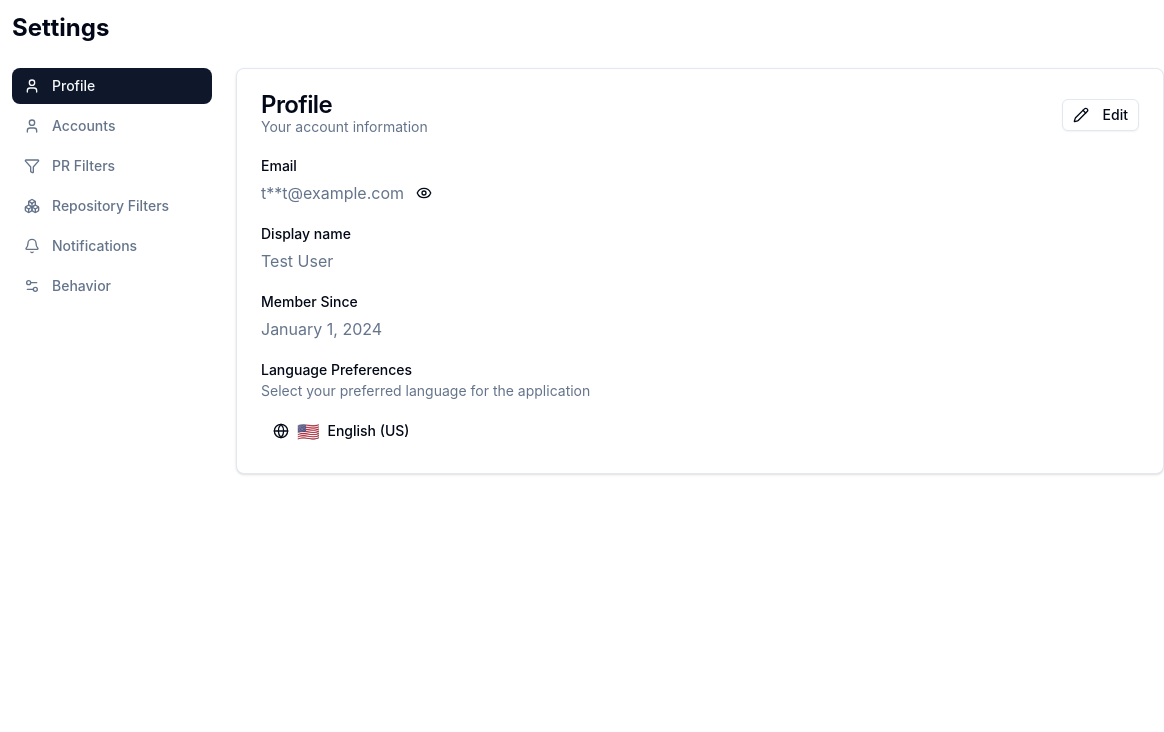
Test: Settings › Profile Settings › cancels edit when cancel button is clicked
Step 1. Click the button "Edit" → (1100, 115), box [1062, 99, 1139, 131]
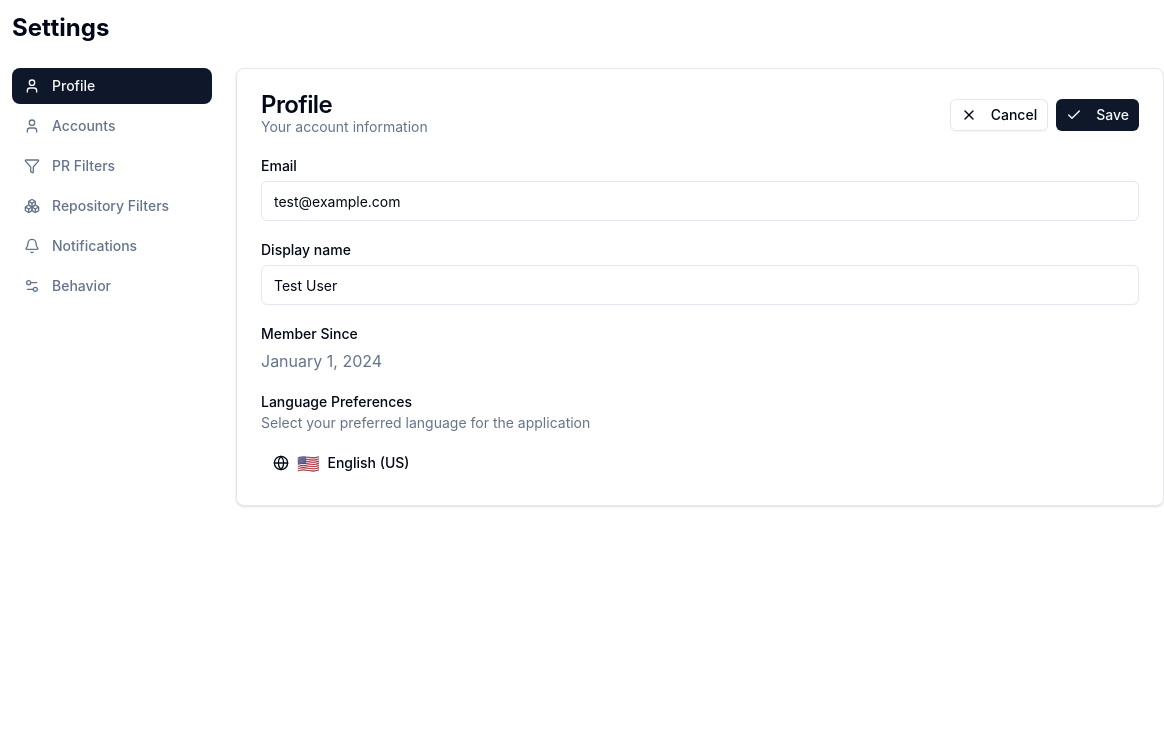
Step 2. Replace the text in the field with placeholder "Enter your email" below "Email" with "changed@example.com" → (700, 201), box [261, 181, 1139, 221]
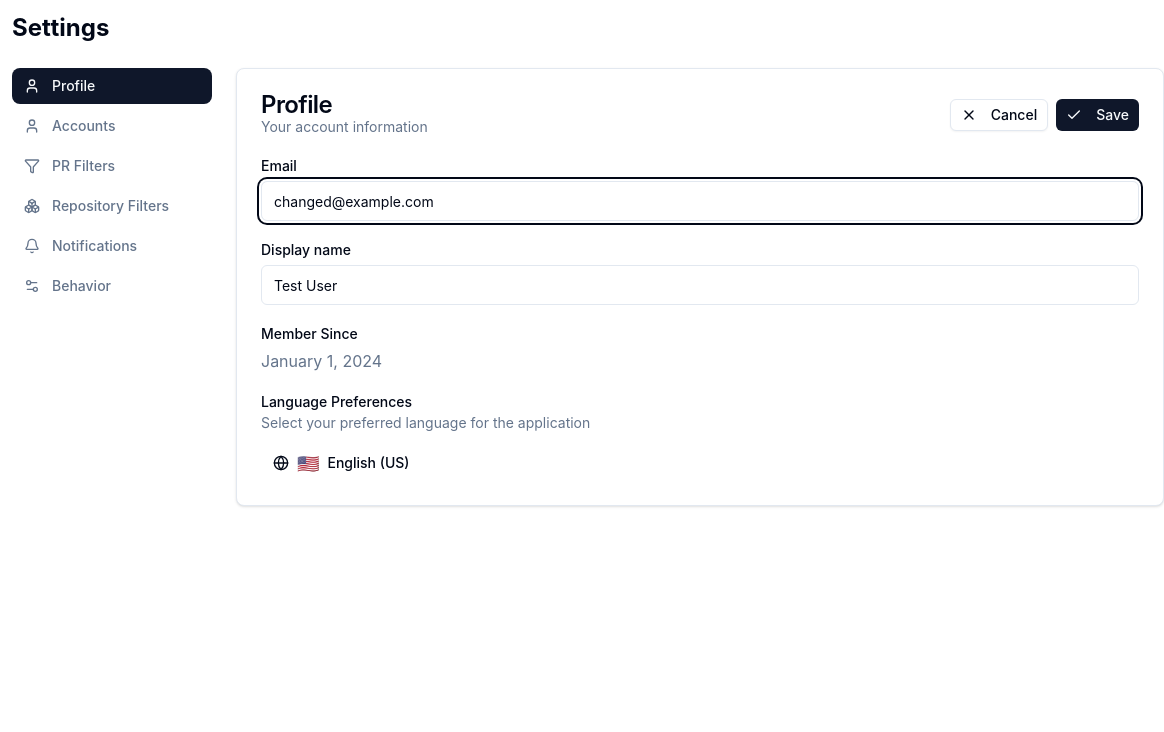
Step 3. Click the button "Cancel" → (999, 115), box [950, 99, 1048, 131]
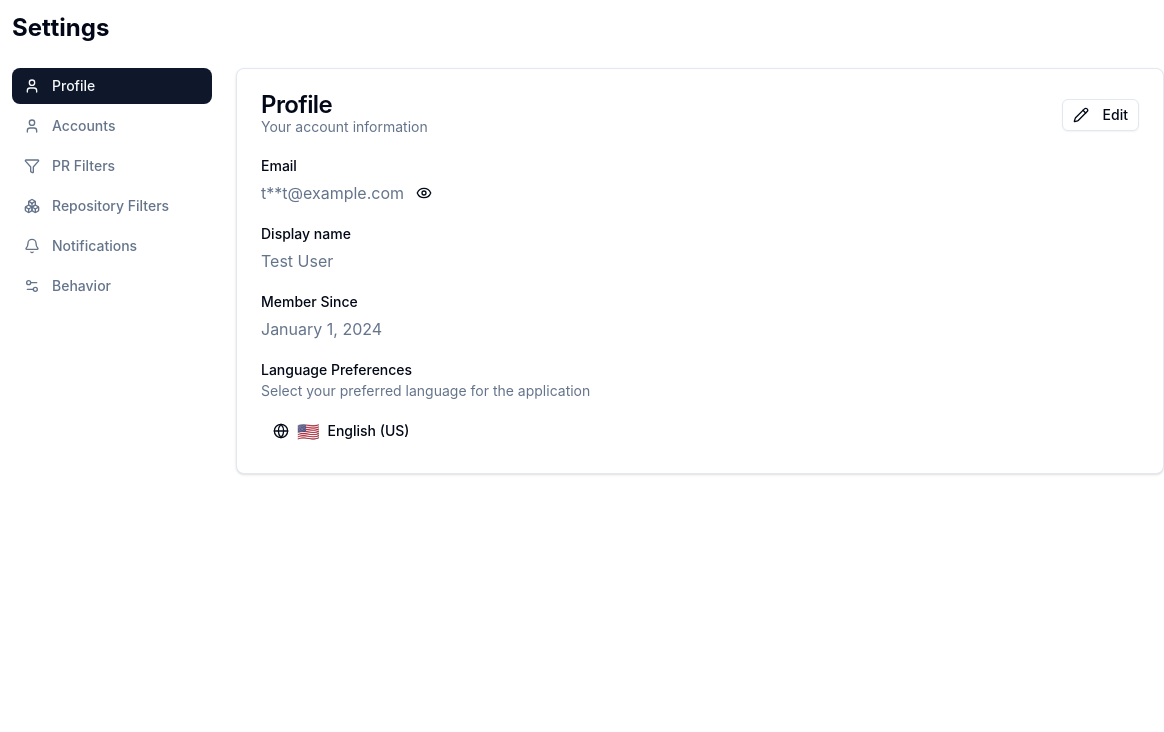
Check: the field with placeholder "Enter your email" is gone
Check: the text "t**t@example.com" is shown, box [261, 181, 404, 205]
